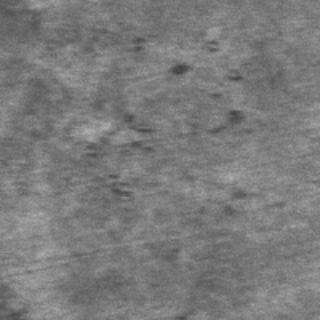rolled pit: (70, 101, 168, 203), (166, 32, 254, 136)
